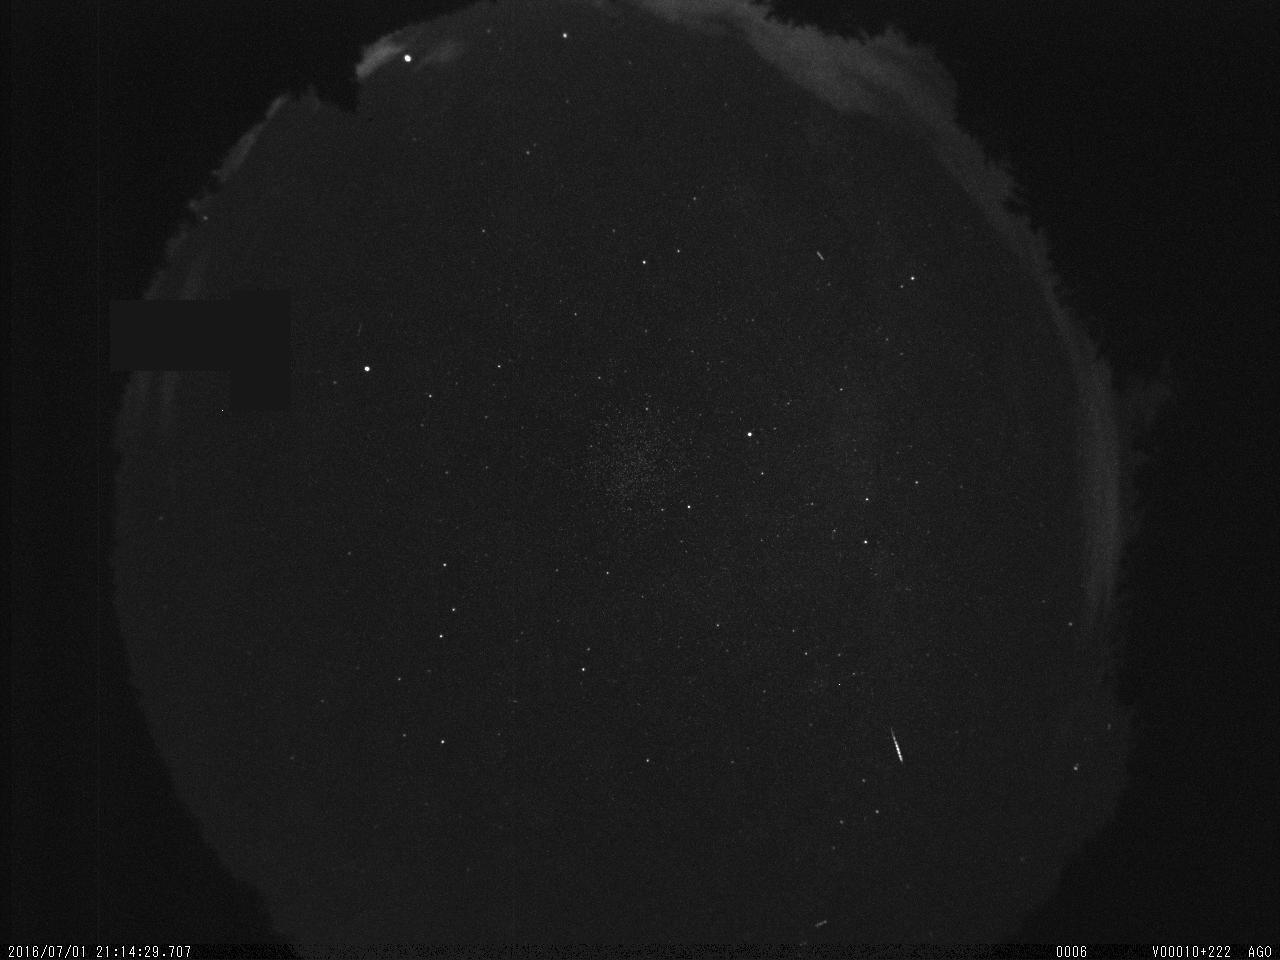meteor: (875, 714, 925, 777)
